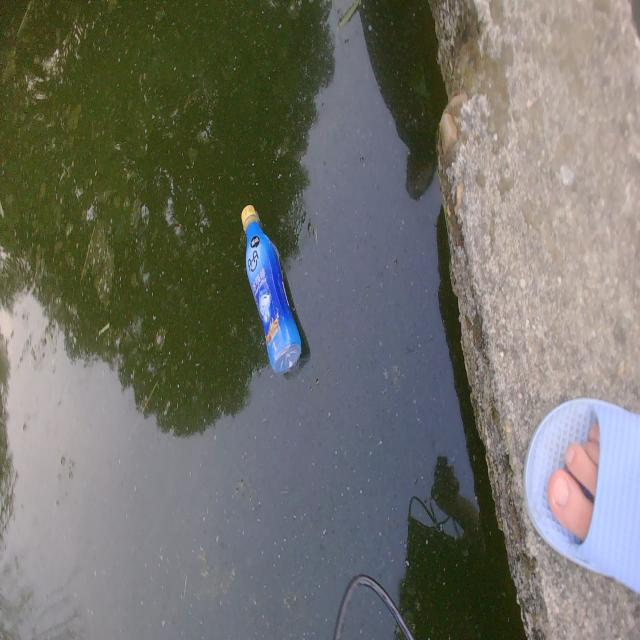Bottle: (238, 200, 303, 373)
